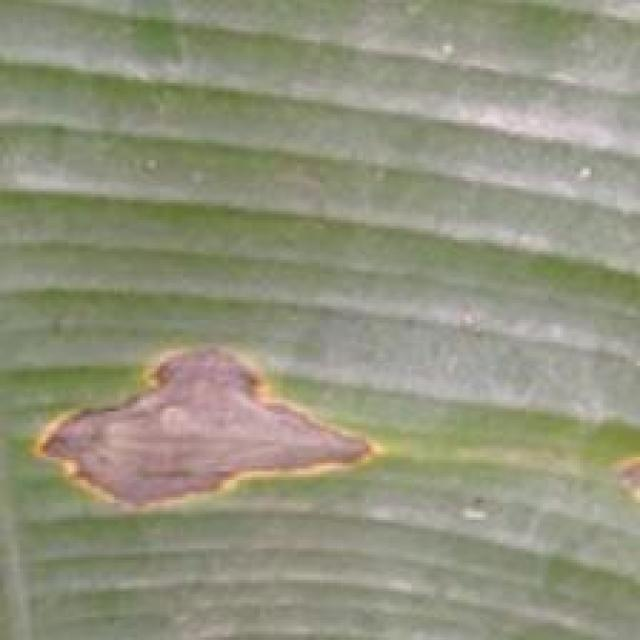Bacterial_spot: (19, 332, 391, 520), (601, 427, 639, 502)
